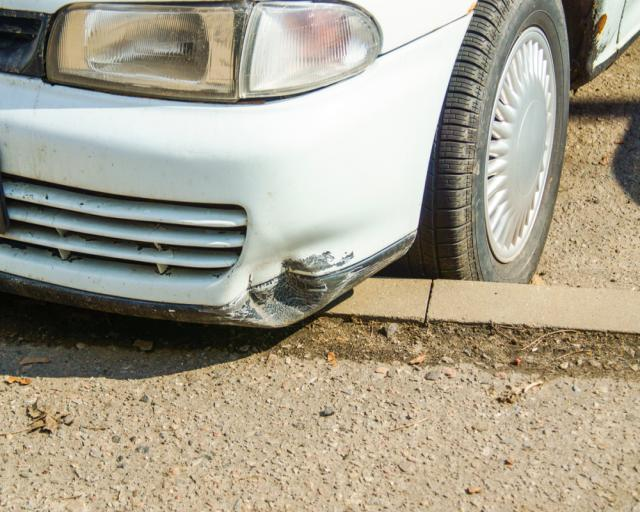dent: (228, 220, 353, 326)
